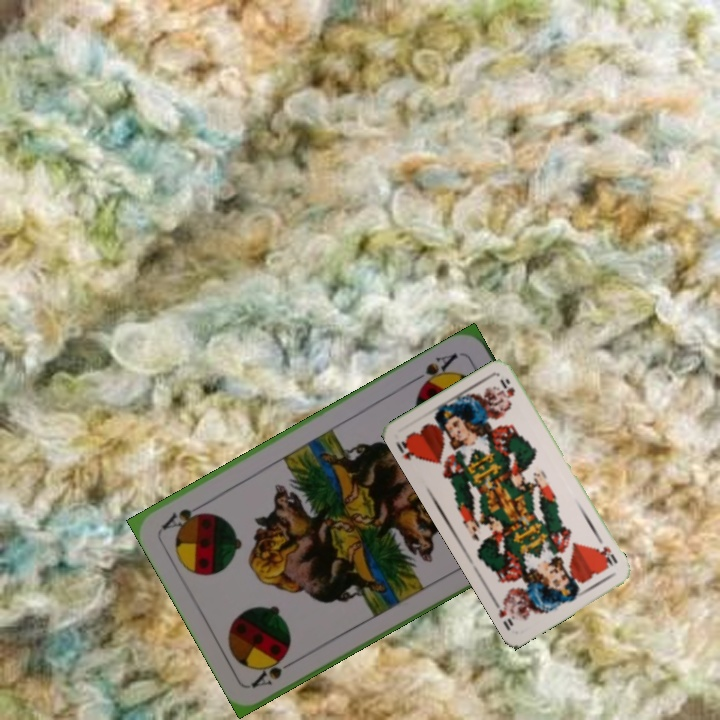HO: (397, 432, 422, 463), (594, 542, 620, 570)
SA: (409, 349, 461, 393), (248, 651, 302, 691)
